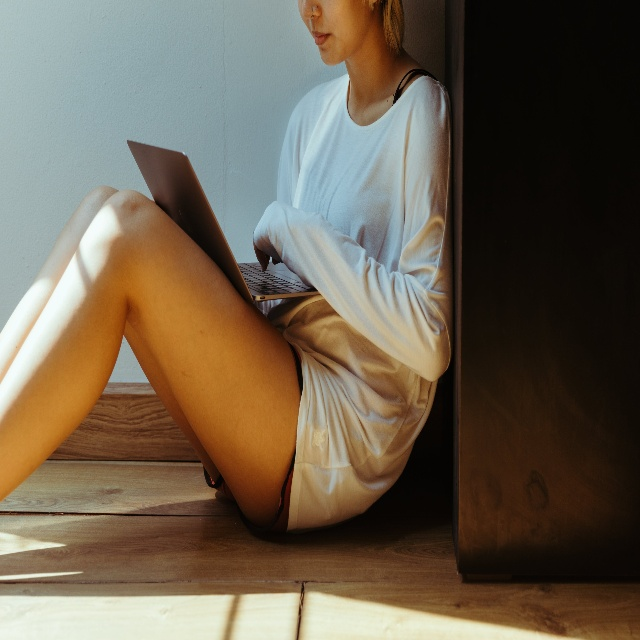Sin_guantes: (252, 225, 282, 272)
